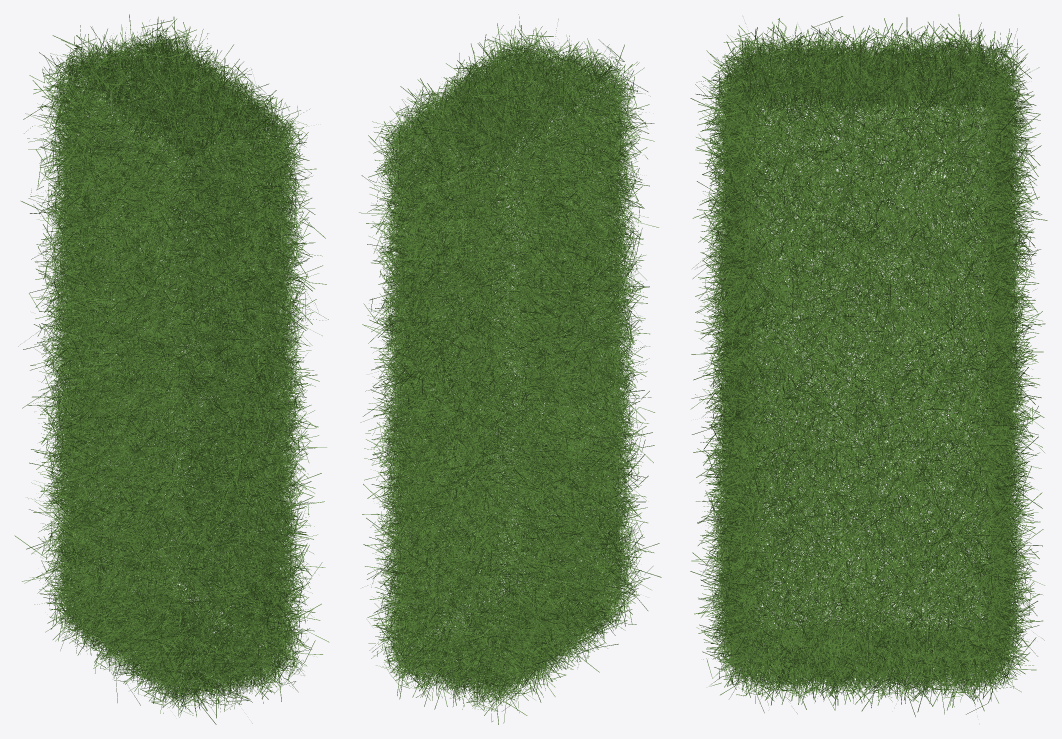
The model's file is house_hedge.glb.
The picture shows the model from 3 angles, left to right: view 1: azimuth 30°, elevation 25°; view 2: azimuth 150°, elevation 25°; view 3: azimuth 270°, elevation 25°; orthographic projection. The views are drawn at different scales.
Visible parts, largest first — view 1: Hedge; view 2: Hedge; view 3: Hedge.
Part boxes in pixels (left/top/right/bottom): Hedge: left=14, top=14, right=329, bottom=724; Hedge: left=359, top=14, right=661, bottom=724; Hedge: left=690, top=14, right=1047, bottom=716.
Bounding box in the file's own units: 194 × 589 × 286.
